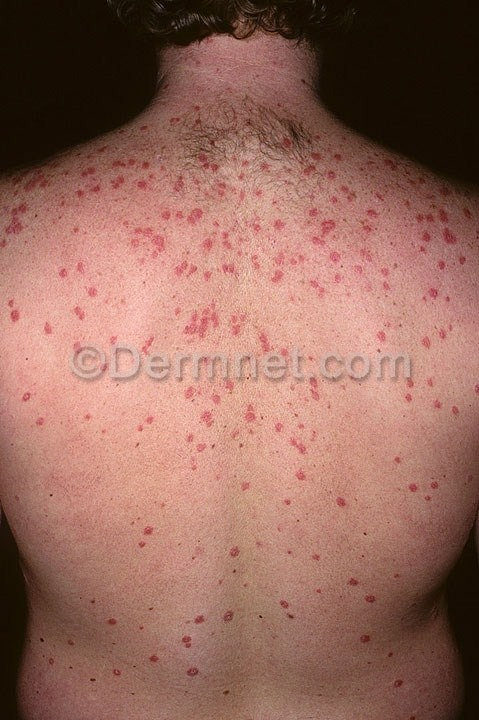Psoriasis: (13, 157, 466, 347), (170, 538, 414, 712), (165, 377, 366, 519), (39, 593, 165, 701), (391, 375, 474, 521), (12, 376, 68, 441), (120, 506, 170, 562)
